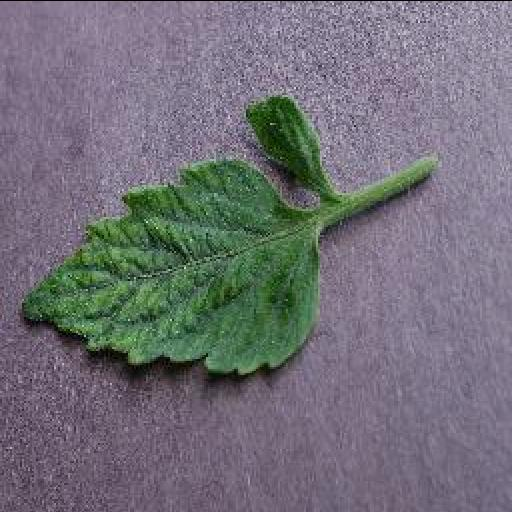disease_tomato: (17, 157, 327, 375)
